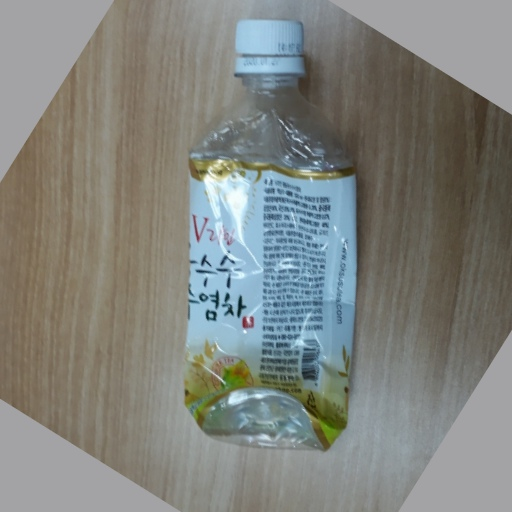Plastic_0: (181, 19, 354, 451)
